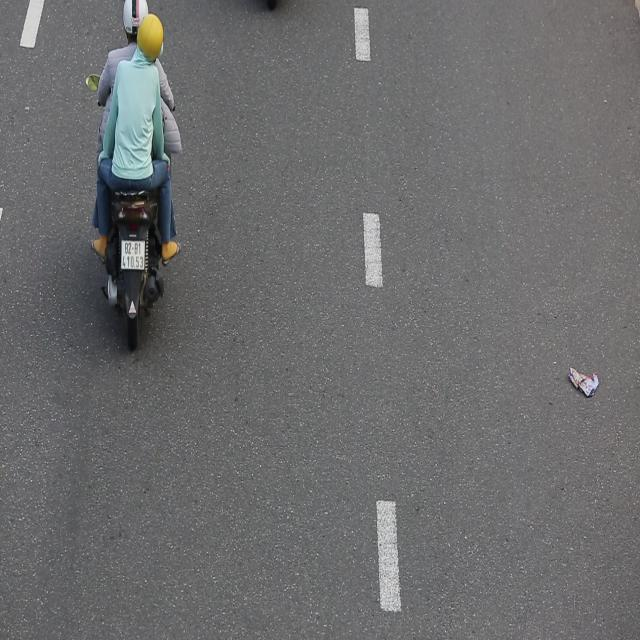motorbike: (89, 0, 198, 360)
